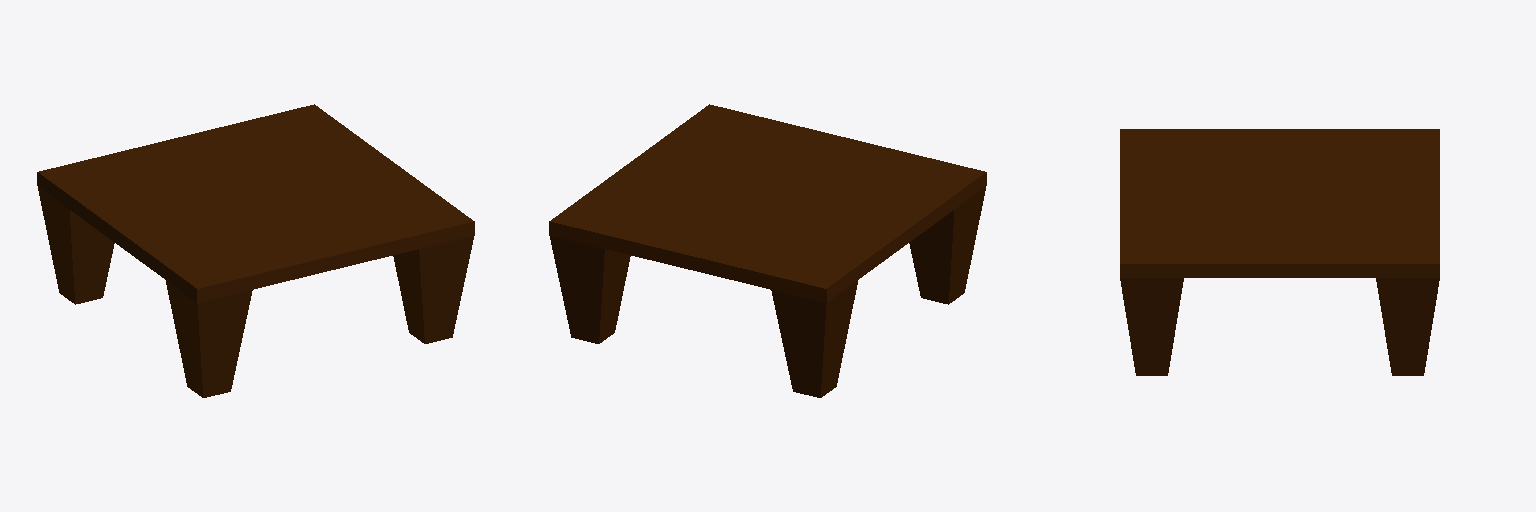
Rendered from table.obj.
The picture shows the model from 3 angles: view 1: azimuth 30°, elevation 25°; view 2: azimuth 150°, elevation 25°; view 3: azimuth 270°, elevation 25°; orthographic projection.
Visible parts, largest first — view 1: Cube; view 2: Cube; view 3: Cube.
Boxes of the visible parts, x1=… form: Cube: x1=37, y1=104, x2=474, y2=397; Cube: x1=549, y1=104, x2=986, y2=397; Cube: x1=1120, y1=129, x2=1439, y2=375.
Size of the model in its own units: 5.55 by 2.27 by 5.55.